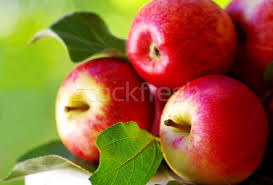apple: (161, 78, 272, 185), (55, 59, 162, 155), (134, 2, 234, 89)
